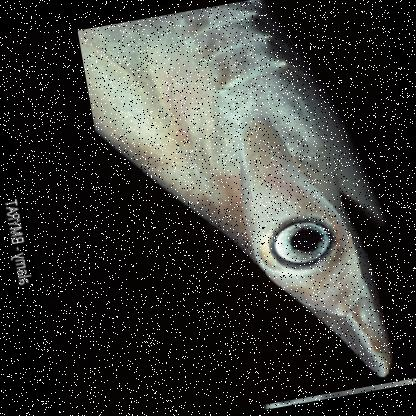hammerhead_Shark: (75, 0, 415, 415)
